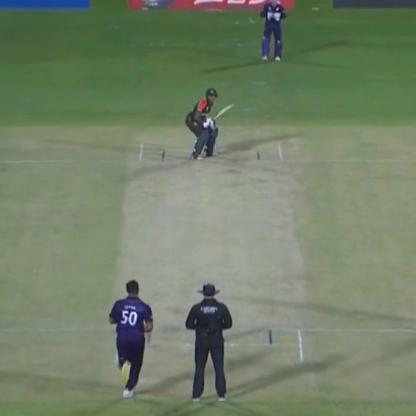bat: (202, 101, 242, 121)
pitch: (120, 136, 310, 374)
